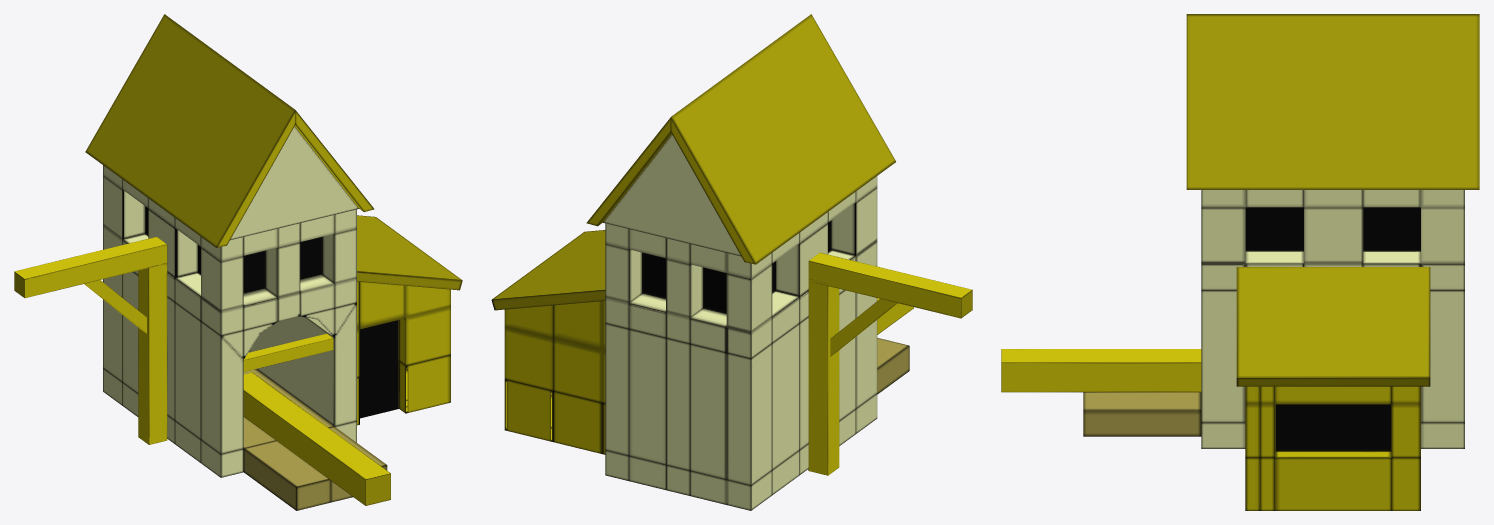
Rendered from wood_mine_lod3.fbx.
3 renders of one model, left to right at view 1: azimuth 30°, elevation 25°; view 2: azimuth 150°, elevation 25°; view 3: azimuth 270°, elevation 25°, orthographic. The views are drawn at different scales.
Parts seen in each view (by area): view 1: wood_mine_mesh; view 2: wood_mine_mesh; view 3: wood_mine_mesh.
Part boxes in pixels (x1,y1,x2,y2): wood_mine_mesh: [14, 14, 462, 510]; wood_mine_mesh: [491, 14, 972, 510]; wood_mine_mesh: [1001, 14, 1479, 510].
Bounding box in the file's own units: 17.63 × 15.08 × 16.33.
